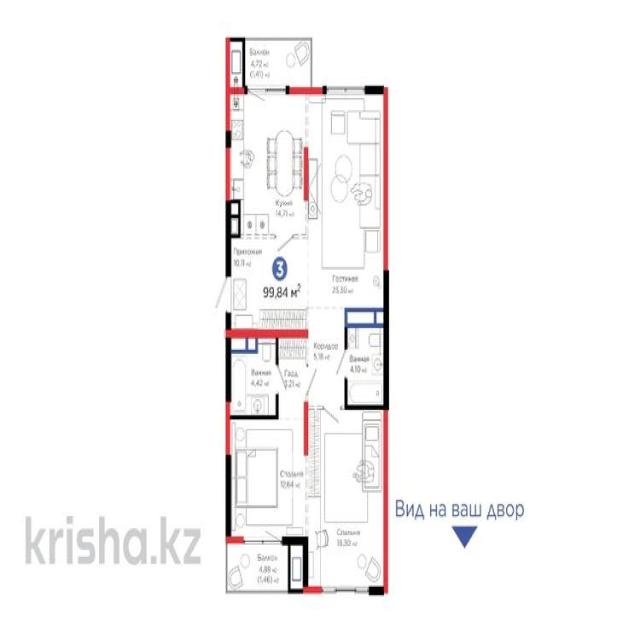balcony: (245, 37, 311, 91), (228, 540, 288, 592)
bathroom: (344, 306, 387, 409), (227, 335, 277, 422)
hallway: (227, 236, 347, 409)
kitchen: (227, 89, 307, 237)
living_room: (309, 88, 386, 310), (306, 406, 388, 592), (227, 416, 305, 542)
other: (276, 334, 308, 370)
